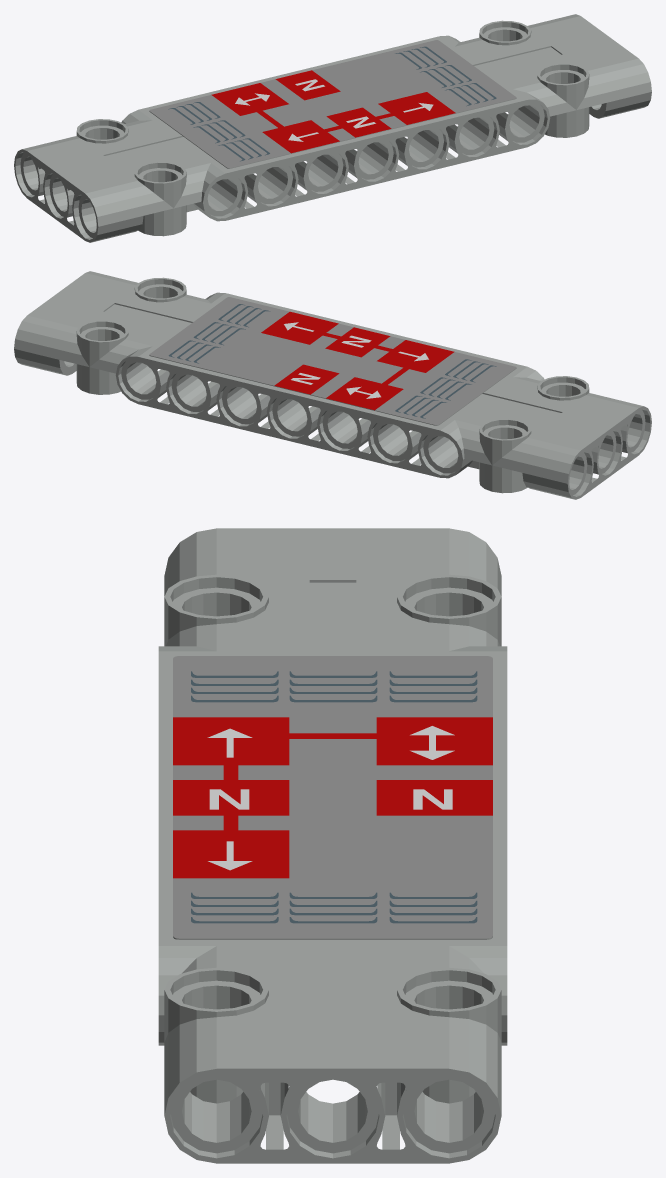
3 views of the same model, one above another, from view 1: azimuth 30°, elevation 25°; view 2: azimuth 150°, elevation 25°; view 3: azimuth 270°, elevation 25° (orthographic). The views are drawn at different scales.
Parts seen in each view (by area): view 1: world; view 2: world; view 3: world.
Boxes of the visible parts, <box> form: world: <box>14,14,651,242</box>; world: <box>14,271,651,499</box>; world: <box>158,528,507,1163</box>.
Bounding box in the file's own units: 0.088 × 0.008 × 0.024.
